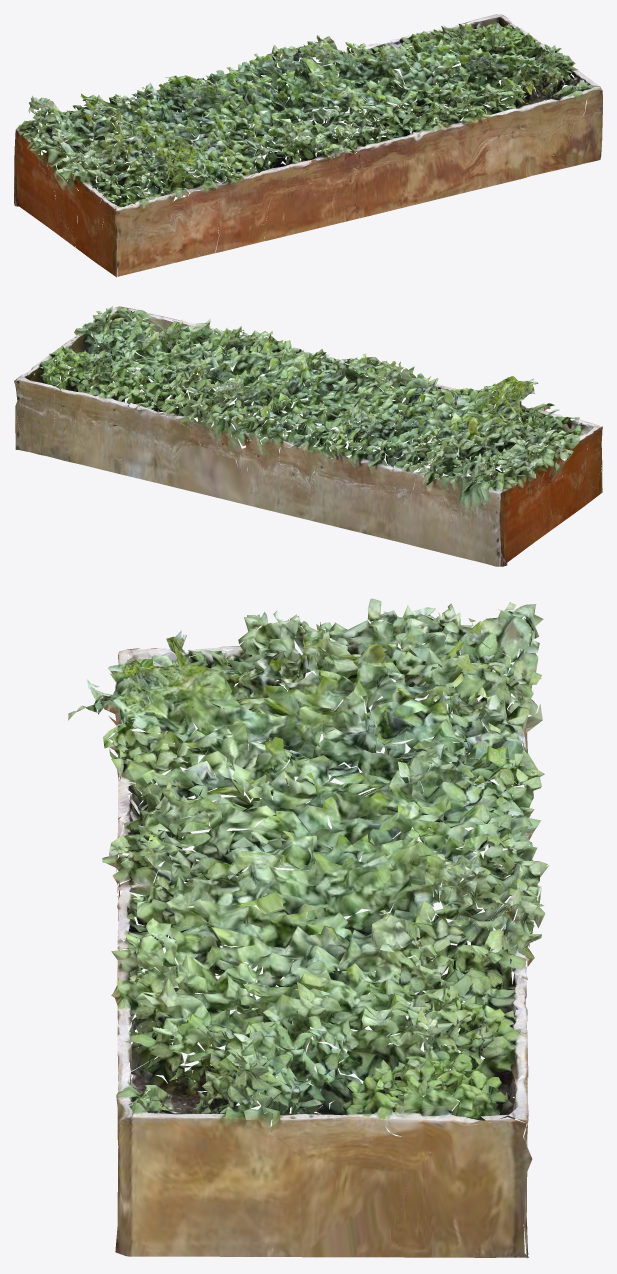
File: raised_bed.glb
3 views of the same model, one above another, from view 1: azimuth 30°, elevation 25°; view 2: azimuth 150°, elevation 25°; view 3: azimuth 270°, elevation 25° (orthographic). The views are drawn at different scales.
Bounding box in the file's own units: 1.77 × 0.3614 × 0.7293.
1 material, 1 textured.
